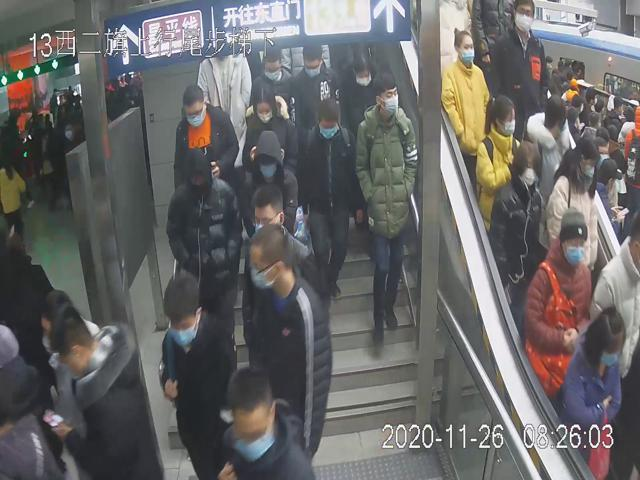person: (245, 226, 334, 461), (356, 69, 419, 349), (154, 271, 235, 475), (521, 200, 587, 398), (242, 188, 318, 354), (300, 94, 359, 297), (167, 146, 243, 292), (490, 136, 542, 304), (173, 81, 240, 200), (439, 28, 496, 164), (474, 91, 520, 238), (243, 128, 300, 244), (239, 78, 298, 174), (245, 42, 301, 109), (293, 38, 342, 104), (341, 45, 382, 117)
